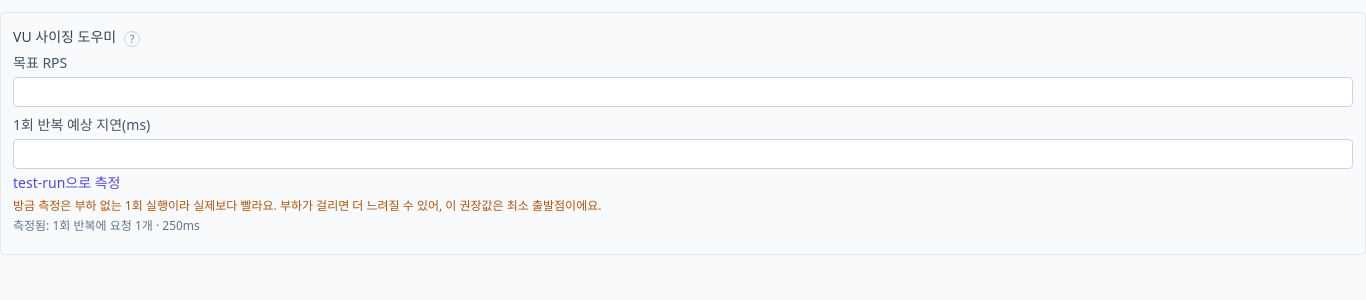
Test: VuSizingHelper › 측정(비-truncated) → R/T로 권장
This screenshot has width=1366, height=300.
Type "400" into the number field labelled "목표 RPS" at (683, 92), box [13,77,1353,107]
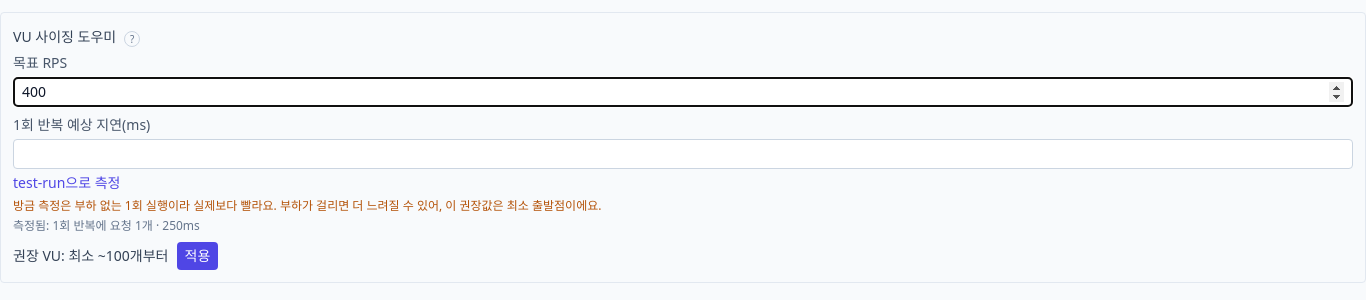
Expected: the text "측정됨: 1회 반복에 요청 1개 · 250ms" is shown, [13,217,200,234]
Expected: the text "권장 VU: 최소 ~100개부터" is shown, [13,246,168,266]
